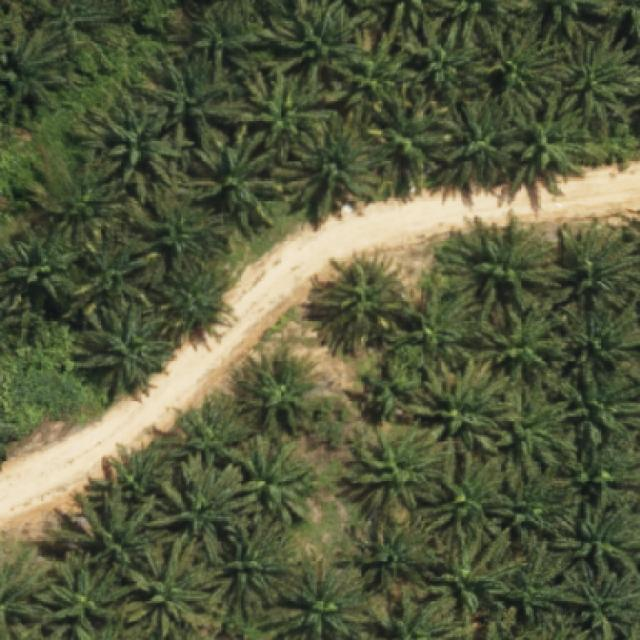Kelapa_Sawit: (146, 448, 265, 568), (434, 210, 560, 322), (183, 116, 288, 236), (304, 249, 416, 357), (138, 40, 248, 148), (69, 293, 177, 402), (490, 368, 592, 483), (339, 422, 455, 520), (24, 146, 130, 252), (284, 113, 382, 227), (407, 353, 515, 456), (80, 91, 188, 191), (425, 528, 530, 628), (115, 534, 214, 640), (54, 485, 166, 578), (426, 451, 516, 566), (477, 11, 571, 120), (56, 234, 166, 326), (123, 187, 232, 279), (488, 456, 590, 553), (234, 63, 344, 152), (552, 212, 640, 322), (365, 86, 453, 194), (505, 92, 600, 192), (234, 343, 326, 443), (478, 298, 574, 393), (227, 434, 321, 531), (401, 12, 499, 105), (343, 508, 439, 602), (330, 25, 422, 123), (214, 518, 295, 617), (436, 91, 516, 191), (402, 279, 488, 367), (497, 534, 577, 628), (154, 256, 241, 341), (174, 389, 243, 474), (354, 351, 420, 424)
